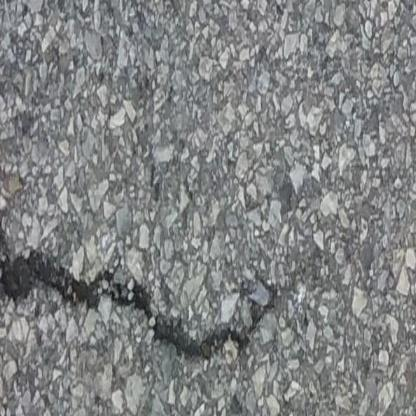Cracks: (0, 206, 282, 365)
